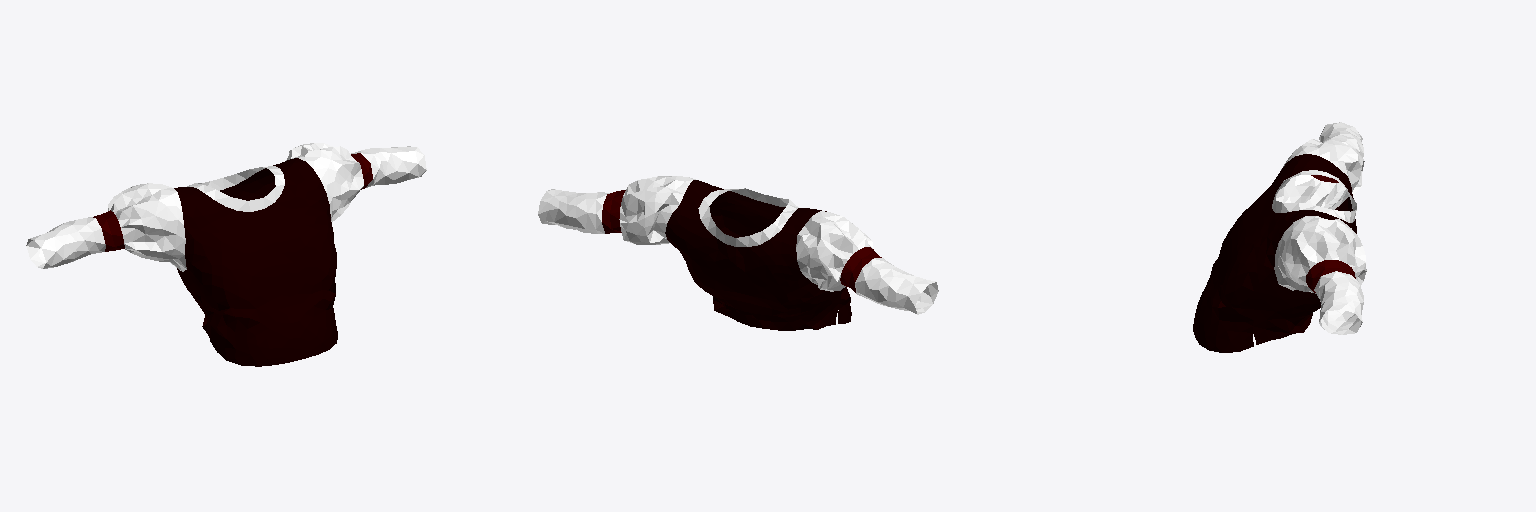
Rendered from ignacio-shirt.obj.
The picture shows the model from 3 angles: view 1: azimuth 30°, elevation 25°; view 2: azimuth 150°, elevation 25°; view 3: azimuth 270°, elevation 25°; orthographic projection.
Bounding box in the file's own units: 0.578 × 0.2099 × 0.2264.